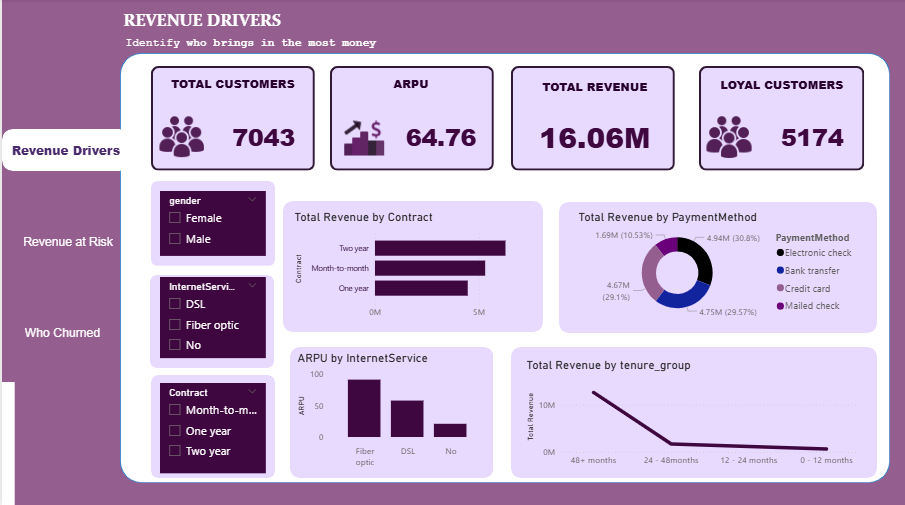

This screenshot's page, from the dashboard's own definition file:
{"tool":"powerbi","page":{"name":"Page 1","canvas":[1280,720],"ordinal":0},"visuals":[{"type":"shape","box":[167.2,76.5,1091.3,609.4],"z":0},{"type":"card","fields":{"Values":["Sheet1.Total Customers"]},"box":[297.9,153.4,146,85],"z":0,"group":"g1"},{"type":"shape","box":[211.6,95.3,232.3,148.3],"z":1000},{"type":"image","box":[211.5,159.3,87.9,73.3],"z":1000,"group":"g1"},{"type":"shape","box":[465.4,95.3,232.3,148.3],"z":3000},{"type":"shape","box":[398.3,286.3,368.5,185.7],"z":4000},{"type":"shape","box":[720.8,95.3,232.3,148.3],"z":5000},{"type":"shape","box":[987.9,94.5,234.3,148.3],"z":6000},{"type":"shape","box":[789.4,287.7,450.7,185.7],"z":7000},{"type":"shape","box":[721.4,493.2,518.7,185.7],"z":8000},{"type":"shape","box":[211.2,258,175.7,120.5],"z":9000},{"type":"shape","box":[211.2,532.9,175.7,146],"z":10000},{"type":"shape","box":[408.7,492.8,288.4,185.5],"z":11000},{"type":"textbox","box":[167.2,9.9,1091.3,41.1],"z":12000},{"type":"textbox","box":[211.2,103.5,232.4,42.5],"z":12000,"group":"g1"},{"type":"textbox","box":[170.1,48.2,1091.3,29.8],"z":13000},{"type":"textbox","box":[989.3,104.9,232.4,42.5],"z":14000},{"type":"textbox","box":[463.5,103.5,232.4,42.5],"z":15000},{"type":"group","id":"g1","title":"Group 2","box":[211.2,103.5,232.7,135],"z":16000},{"type":"image","box":[473.4,156.9,79.4,78],"z":17000},{"type":"textbox","box":[738.2,108.2,204.1,36.9],"z":18000,"group":"g2"},{"type":"card","fields":{"Values":["Sheet1.ARPU"]},"box":[548.5,159.1,147.4,73.7],"z":18000},{"type":"barChart","fields":{"Category":["Sheet1.Contract"],"Y":["Sheet1.Total Revenue"]},"box":[409.6,299.1,368.5,163],"z":19000},{"type":"group","id":"g2","title":"Group 1","box":[738.2,108.2,204.1,117.4],"z":20000},{"type":"card","fields":{"Values":["Sheet1.Total Revenue"]},"box":[738.2,166.1,204.1,59.5],"z":20000,"group":"g2"},{"type":"columnChart","fields":{"Category":["Sheet1.InternetService"],"Y":["Sheet1.ARPU"]},"box":[413.9,498.9,276.4,172.9],"z":21000},{"type":"donutChart","fields":{"Category":["Sheet1.PaymentMethod"],"Y":["Sheet1.Total Revenue"]},"box":[812.1,299.1,409.6,158.7],"z":22000},{"type":"lineChart","fields":{"Y":["Sheet1.Total Revenue"],"Category":["Sheet1.tenure_group"]},"box":[738.4,508.8,483.3,163],"z":23000},{"type":"slicer","fields":{"Values":["Sheet1.gender"]},"box":[223.9,272.1,150.2,92.1],"z":24000},{"type":"slicer","fields":{"Values":["Sheet1.Contract"]},"box":[223.9,544.3,150.2,127.6],"z":25000},{"type":"shape","box":[209.8,391.2,175.7,131.8],"z":26000},{"type":"slicer","fields":{"Values":["Sheet1.InternetService"]},"box":[223.9,394,150.2,114.8],"z":27000},{"type":"shape","box":[0,184.3,181.4,59.5],"z":28000},{"type":"shape","box":[8.5,306.1,170.1,73.7],"z":29000},{"type":"shape","box":[14.2,435.1,143.1,73.7],"z":30000},{"type":"shape","box":[0,542.8,18.4,177.2],"z":31000},{"type":"card","fields":{"Values":["Sheet1.Loyal customers"]},"box":[1074.3,159.1,147.4,73.7],"z":32000},{"type":"image","box":[986.5,159.1,87.9,73.7],"z":32500}]}

Visuals, with their boxes on the page's 1280x720 design canvas (x1, y1, x2, y2). These are canvas units, not pixel positions in the 905x505 screenshot, which may show the page scaled, cropped or inside an application window:
shape: 167, 76, 1258, 686
card - Sheet1.Total Customers: 298, 153, 444, 238
shape: 212, 95, 444, 244
image: 212, 159, 299, 233
shape: 465, 95, 698, 244
shape: 398, 286, 767, 472
shape: 721, 95, 953, 244
shape: 988, 94, 1222, 243
shape: 789, 288, 1240, 473
shape: 721, 493, 1240, 679
shape: 211, 258, 387, 378
shape: 211, 533, 387, 679
shape: 409, 493, 697, 678
textbox: 167, 10, 1258, 51
textbox: 211, 104, 444, 146
textbox: 170, 48, 1261, 78
textbox: 989, 105, 1222, 147
textbox: 464, 104, 696, 146
"Group 2" group: 211, 104, 444, 238
image: 473, 157, 553, 235
textbox: 738, 108, 942, 145
card - Sheet1.ARPU: 548, 159, 696, 233
barChart - Sheet1.Contract x Sheet1.Total Revenue: 410, 299, 778, 462
"Group 1" group: 738, 108, 942, 226
card - Sheet1.Total Revenue: 738, 166, 942, 226
columnChart - Sheet1.InternetService x Sheet1.ARPU: 414, 499, 690, 672
donutChart - Sheet1.PaymentMethod x Sheet1.Total Revenue: 812, 299, 1222, 458
lineChart - Sheet1.Total Revenue x Sheet1.tenure_group: 738, 509, 1222, 672
slicer - Sheet1.gender: 224, 272, 374, 364
slicer - Sheet1.Contract: 224, 544, 374, 672
shape: 210, 391, 386, 523
slicer - Sheet1.InternetService: 224, 394, 374, 509
shape: 0, 184, 181, 244
shape: 8, 306, 179, 380
shape: 14, 435, 157, 509
shape: 0, 543, 18, 720
card - Sheet1.Loyal customers: 1074, 159, 1222, 233
image: 986, 159, 1074, 233
